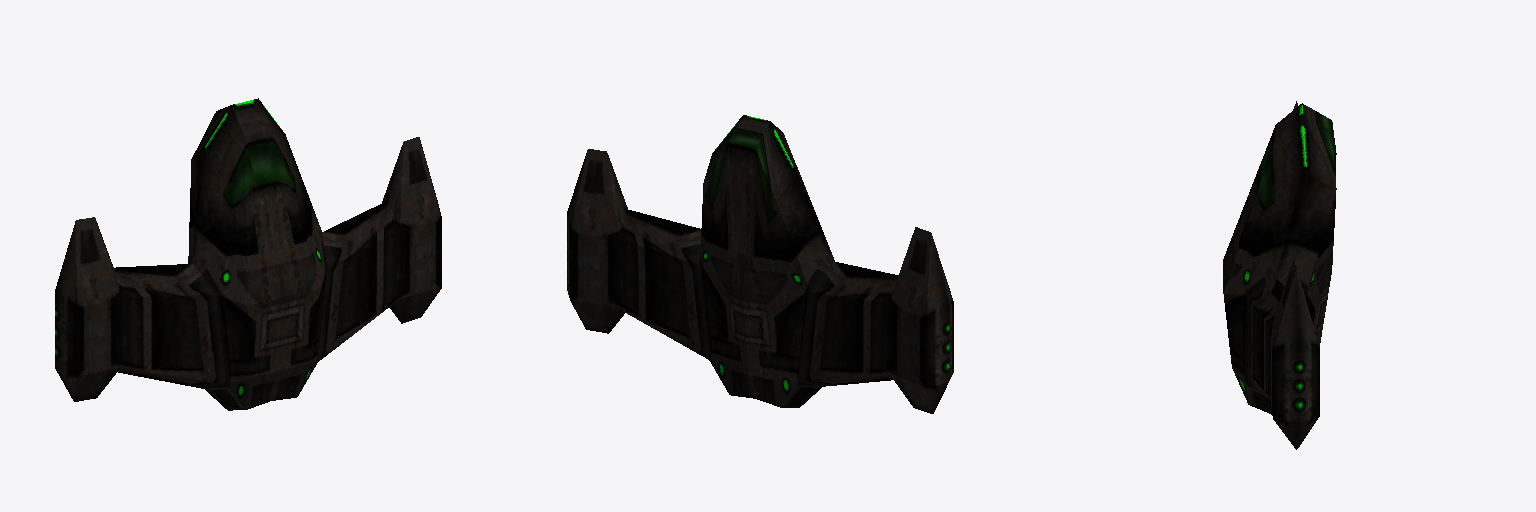
3 renders of one model, left to right at view 1: azimuth 30°, elevation 25°; view 2: azimuth 150°, elevation 25°; view 3: azimuth 270°, elevation 25°, orthographic.
Bounding box in the file's own units: 3.88 × 2.84 × 0.9948.
1 materials, 1 textured.